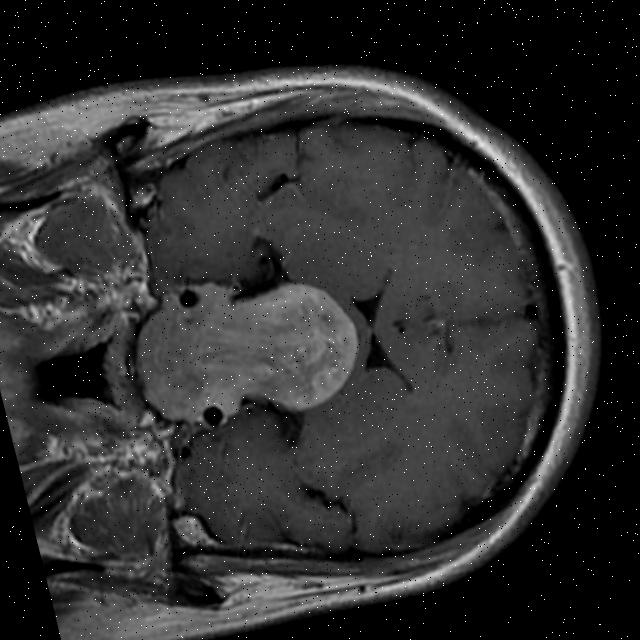Pituitary: (114, 244, 374, 450)
